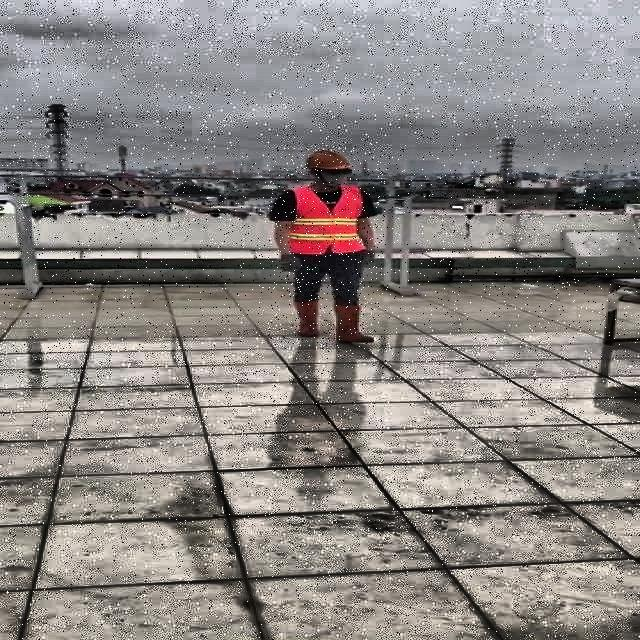safety_helmet: (301, 150, 355, 170)
safety_jacket: (292, 186, 364, 254)
